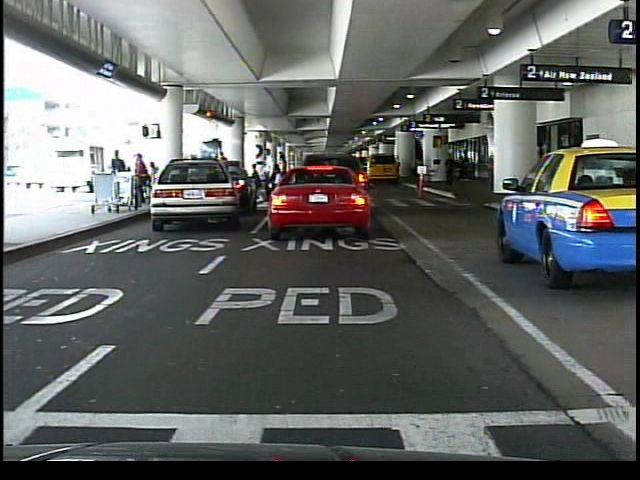person: (252, 159, 274, 205), (216, 149, 233, 201), (109, 148, 125, 203), (336, 152, 353, 202), (264, 147, 279, 195), (443, 152, 457, 188)
